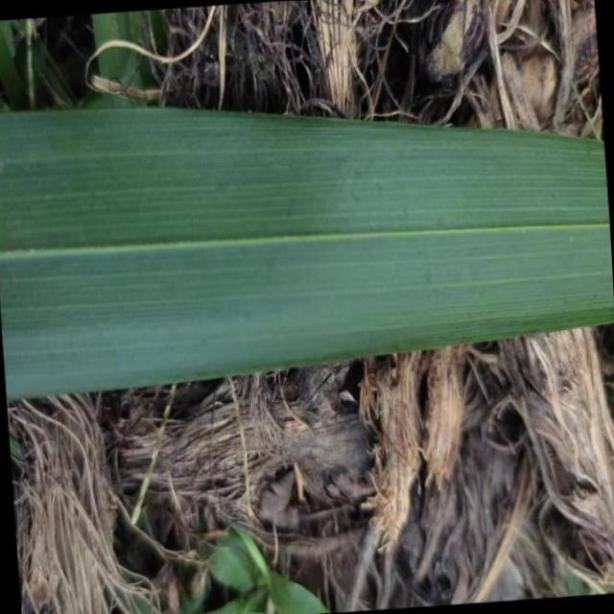Healthy: (0, 107, 614, 397)
